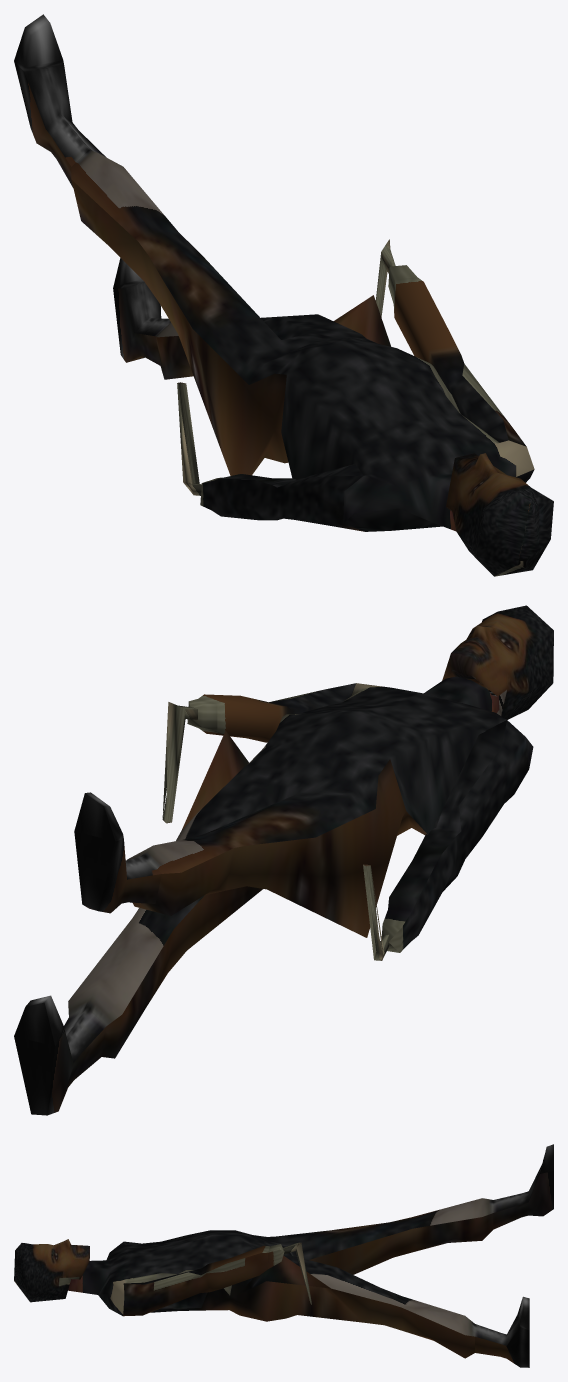
File: npc_jaka_ronda_walk2.obj
3 renders of one model, top to bottom at view 1: azimuth 30°, elevation 25°; view 2: azimuth 150°, elevation 25°; view 3: azimuth 270°, elevation 25°, orthographic. The views are drawn at different scales.
Visible parts, largest first — view 1: npc_jaka_ronda_walk2; view 2: npc_jaka_ronda_walk2; view 3: npc_jaka_ronda_walk2.
Part boxes in pixels (bbox=[...]): npc_jaka_ronda_walk2: bbox=[14, 14, 553, 576]; npc_jaka_ronda_walk2: bbox=[14, 605, 553, 1115]; npc_jaka_ronda_walk2: bbox=[14, 1144, 553, 1367].
Bounding box in the file's own units: 0.4716 × 0.7262 × 1.75.
Materials: 1 (1 with a texture image).
